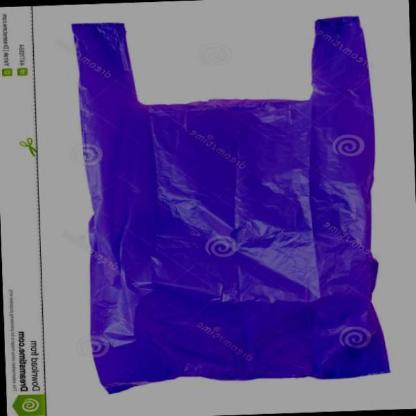Plastic Bag: (70, 15, 394, 397)
